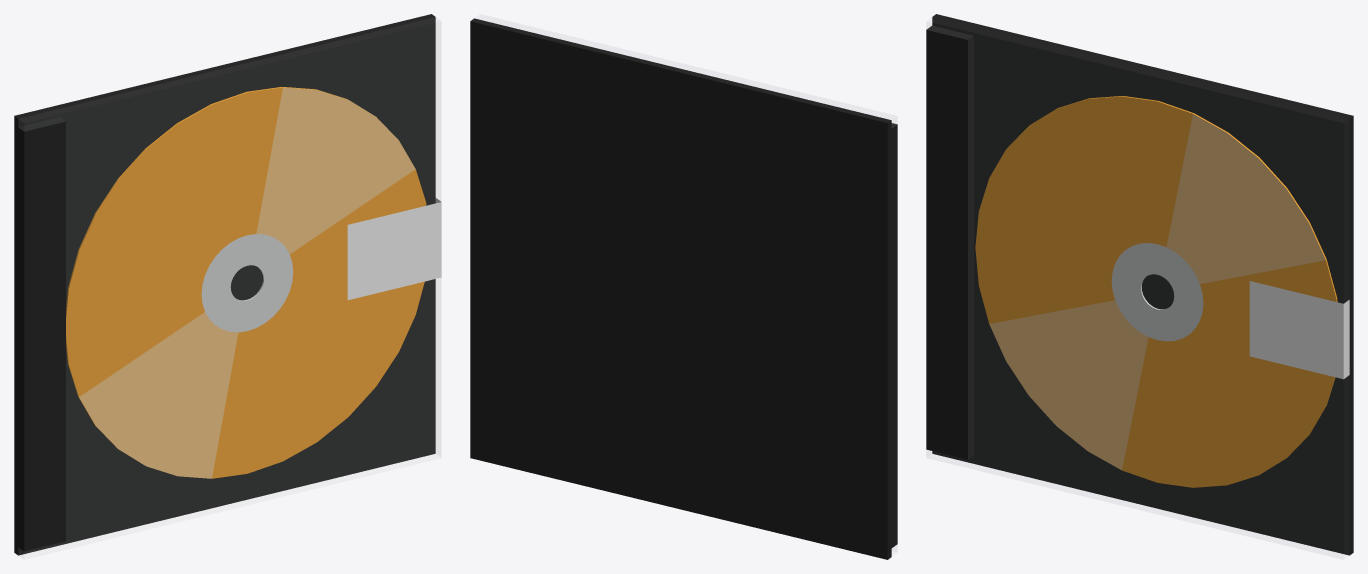
File: computer_disk.fbx
3 views of the same model, side by side, from view 1: azimuth 30°, elevation 25°; view 2: azimuth 150°, elevation 25°; view 3: azimuth 330°, elevation 25° (orthographic).
Visible parts, largest first — view 1: Cube.931; view 2: Cube.931; view 3: Cube.931.
Boxes of the visible parts, x1,y1,x2,y2 form: Cube.931: [14, 14, 441, 559]; Cube.931: [470, 14, 897, 559]; Cube.931: [926, 14, 1353, 559].
Size of the model in its own units: 220 by 220 by 9.1.
Materials: 2 (1 with a texture image).
